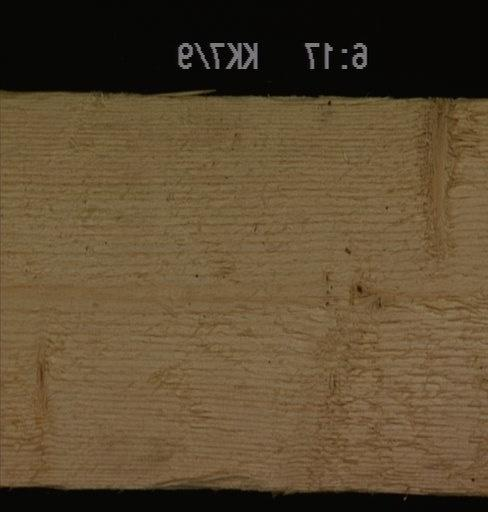small_knot: (347, 278, 367, 296), (372, 293, 385, 311)
wave: (142, 463, 256, 488)
